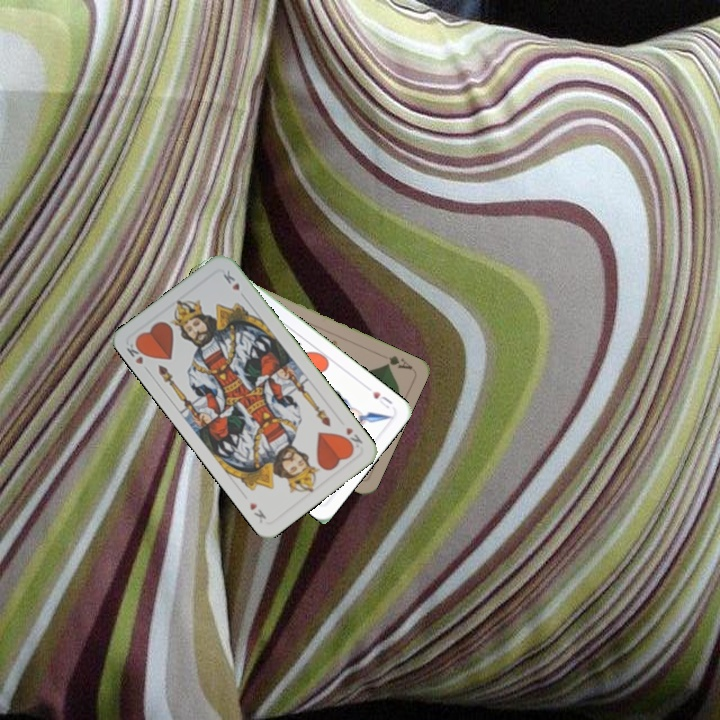GA: (381, 351, 415, 373)
HK: (122, 337, 152, 375), (339, 423, 365, 452)
HU: (368, 387, 395, 411)
